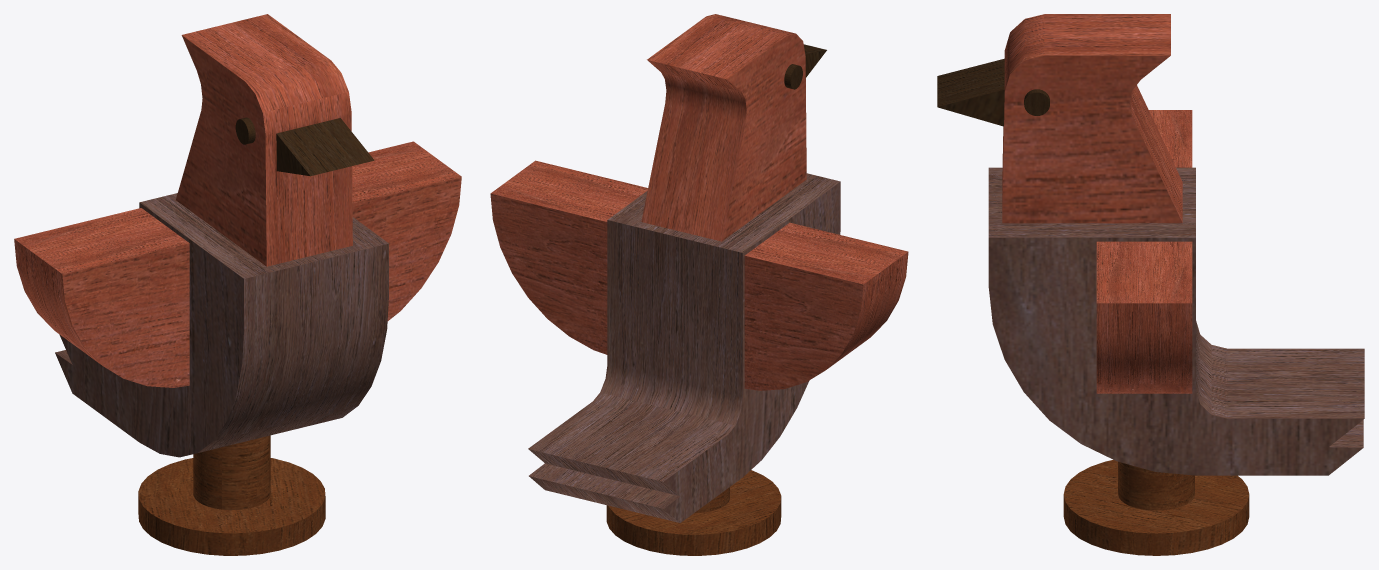
The model's file is bird.gltf.
The picture shows the model from 3 angles, left to right: view 1: azimuth 30°, elevation 25°; view 2: azimuth 150°, elevation 25°; view 3: azimuth 270°, elevation 25°; orthographic projection. The views are drawn at different scales.
Parts seen in each view (by area): view 1: Cylinder.001, Cylinder.002, Cylinder; view 2: Cylinder.001, Cylinder.002, Cylinder; view 3: Cylinder.001, Cylinder.002, Cylinder, Cylinder.003.
Part boxes in pixels (x1=…): Cylinder.001: x1=55, y1=14, x2=388, y2=457; Cylinder.002: x1=14, y1=141, x2=461, y2=387; Cylinder: x1=138, y1=435, x2=325, y2=555; Cylinder.001: x1=528, y1=14, x2=840, y2=522; Cylinder.002: x1=490, y1=160, x2=908, y2=390; Cylinder: x1=606, y1=470, x2=781, y2=555; Cylinder.001: x1=937, y1=14, x2=1364, y2=475; Cylinder.002: x1=1096, y1=110, x2=1192, y2=393; Cylinder: x1=1063, y1=460, x2=1249, y2=555; Cylinder.003: x1=1024, y1=89, x2=1049, y2=115.
Size of the model in its own units: 3.69 by 4.3 by 3.45.
4 materials, 4 textured.
